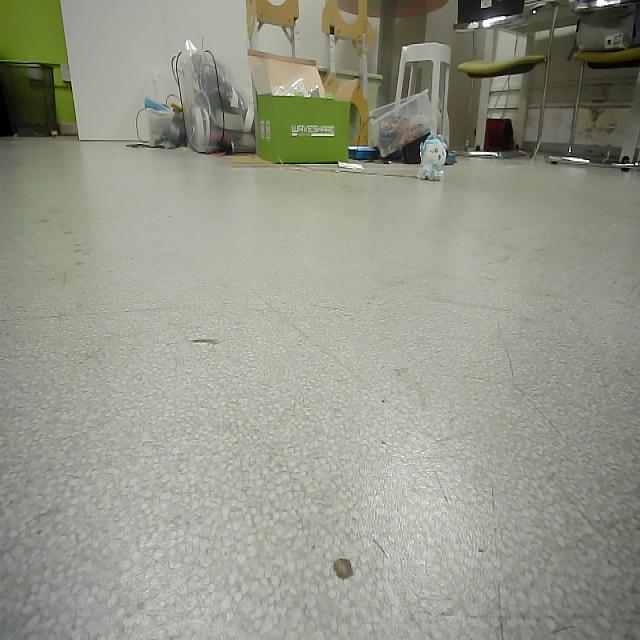xiaoba: (415, 127, 449, 184)
